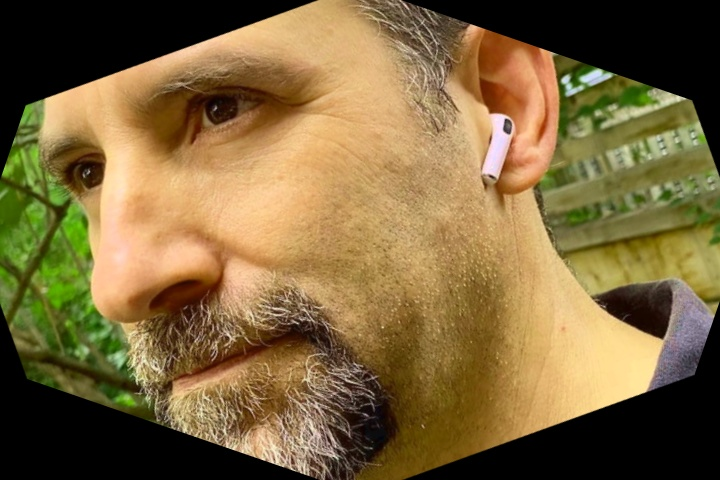earphone: (377, 11, 625, 232)
